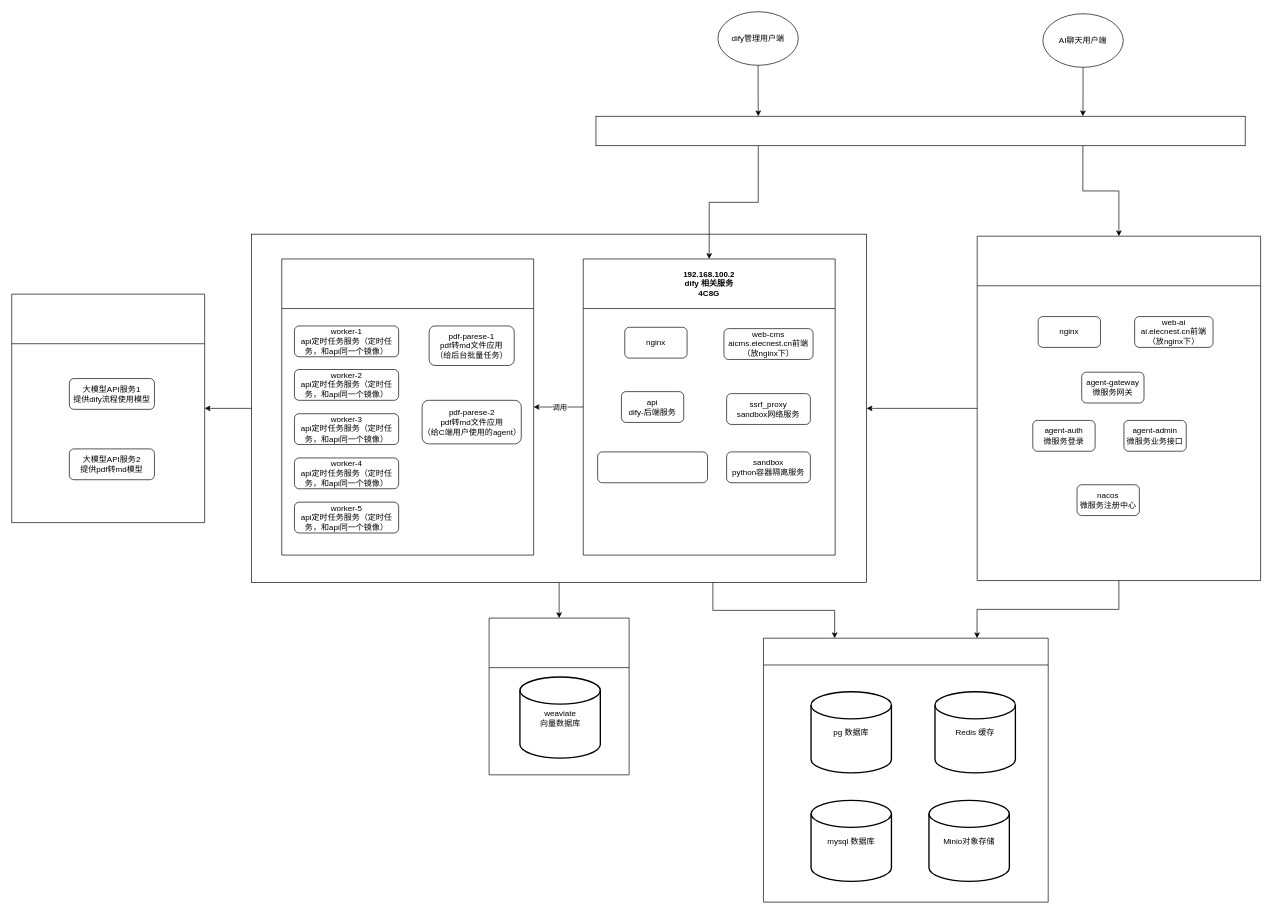
Some shapes in this 1272 by 914 pixel diagram are drawn without their labels. Here are the shapes that lost their labels. From the top down, the box of each, then its label:
(595, 116, 1245, 146): 阿里云 ALB（外网）
(11, 293, 205, 523): 大模型厂商
(281, 258, 534, 555): 192.168.100.3 dify 相关服务 8C16G
(977, 236, 1261, 581): 192.168.100.1 部署 java 微服务（后续可优化成单体服务） 4C8G
(597, 451, 708, 483): run_python_code mcp服务 （专门运行 Python 脚本）
(488, 617, 629, 775): 192.168.100.4 4C8G 硬盘资源1T
(763, 638, 1048, 902): 阿里云服务
